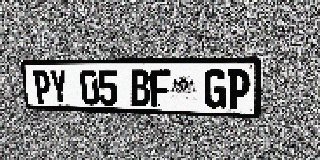0: (79, 70, 99, 105)
5: (98, 70, 118, 106)
B: (130, 69, 150, 107)
F: (150, 69, 170, 107)
G: (204, 69, 227, 109)
P: (226, 69, 250, 109), (32, 70, 52, 104)
Y: (49, 70, 69, 104)
